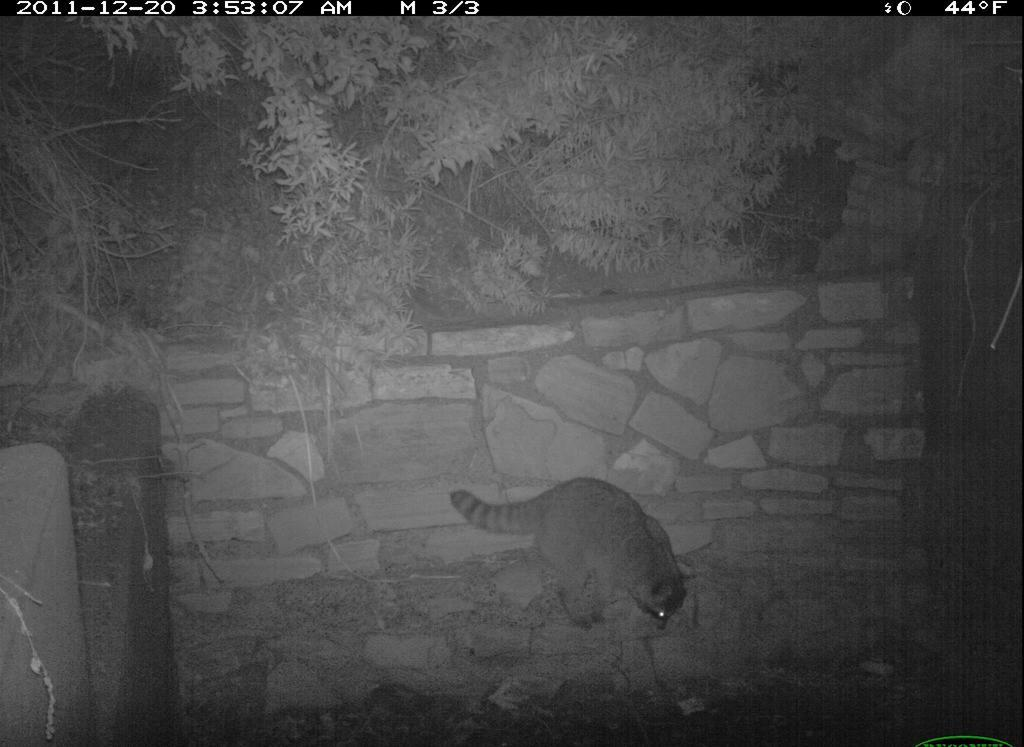raccoon: (440, 477, 689, 633)
